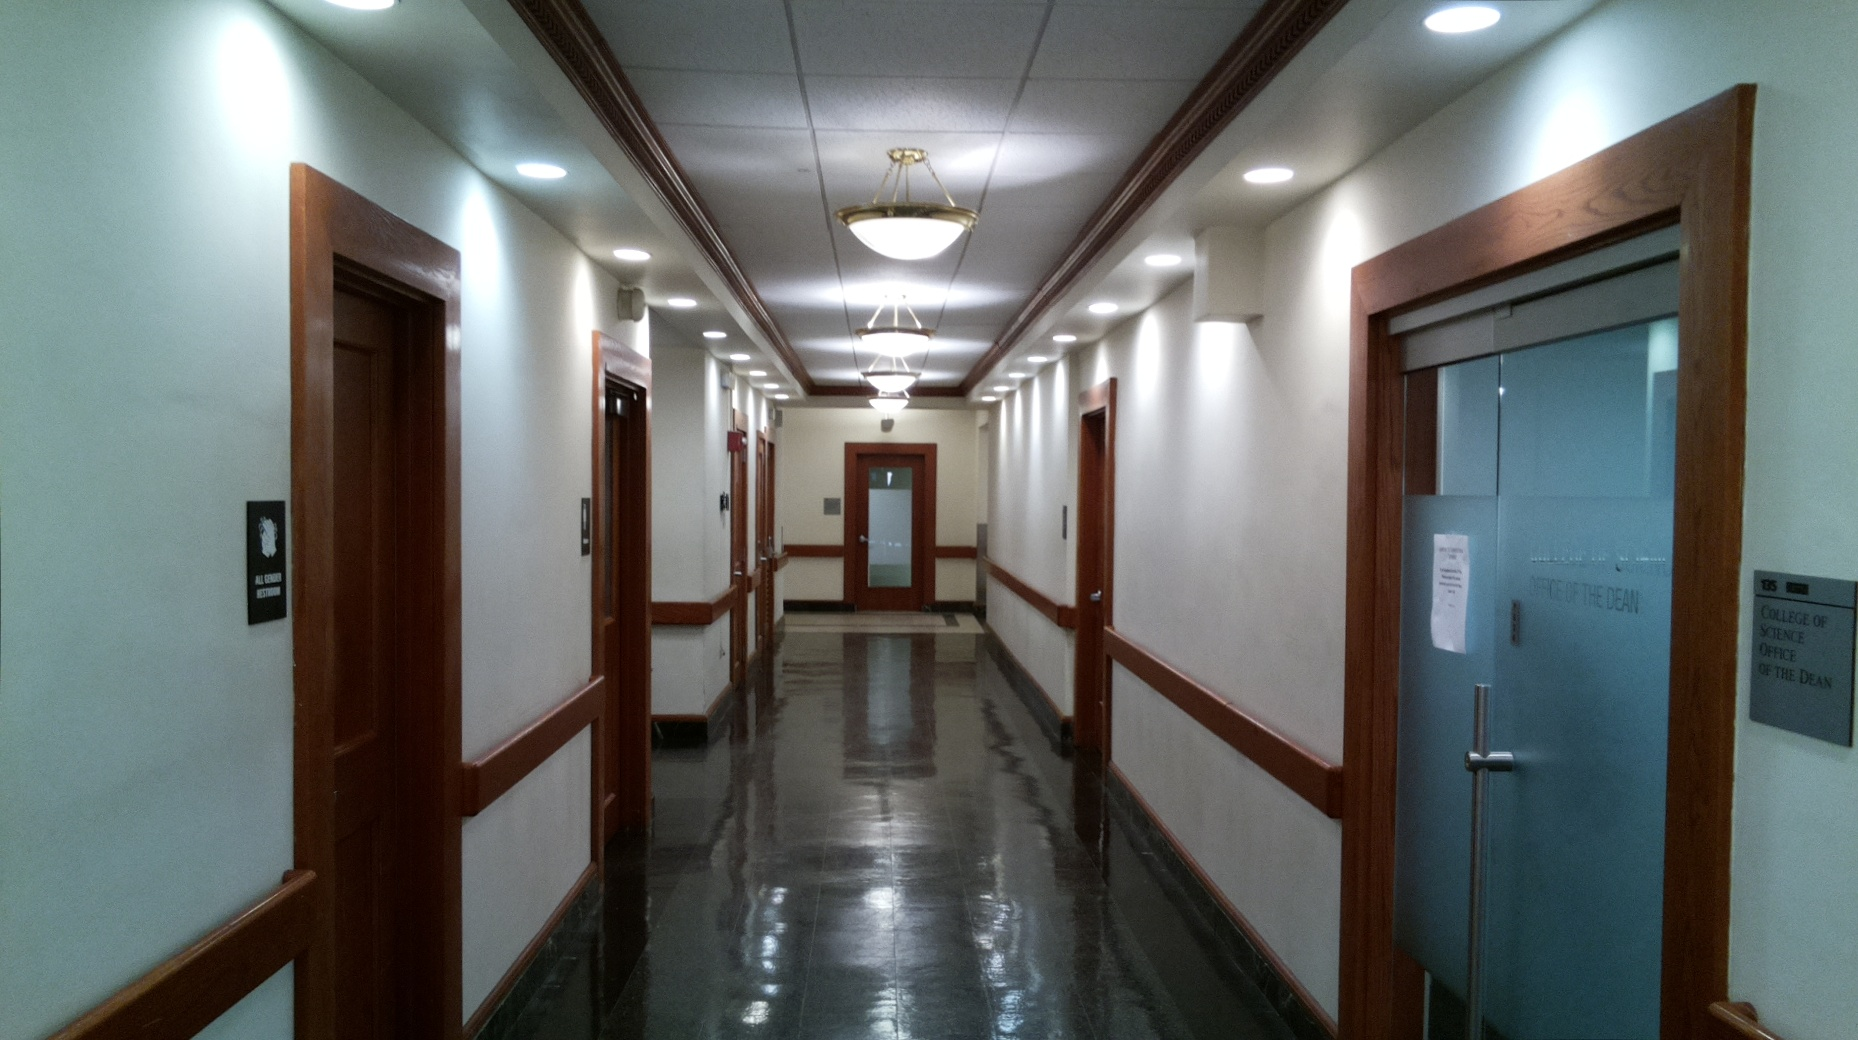bathroom sign: (242, 496, 288, 629), (579, 495, 592, 558)
